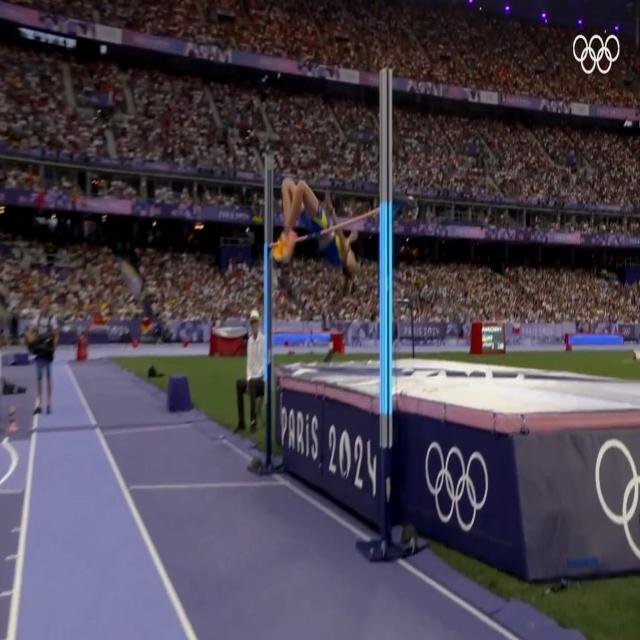jump: (271, 166, 359, 282)
